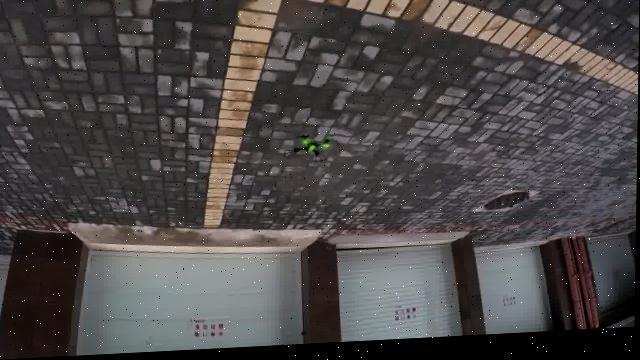drone: (281, 136, 341, 170)
